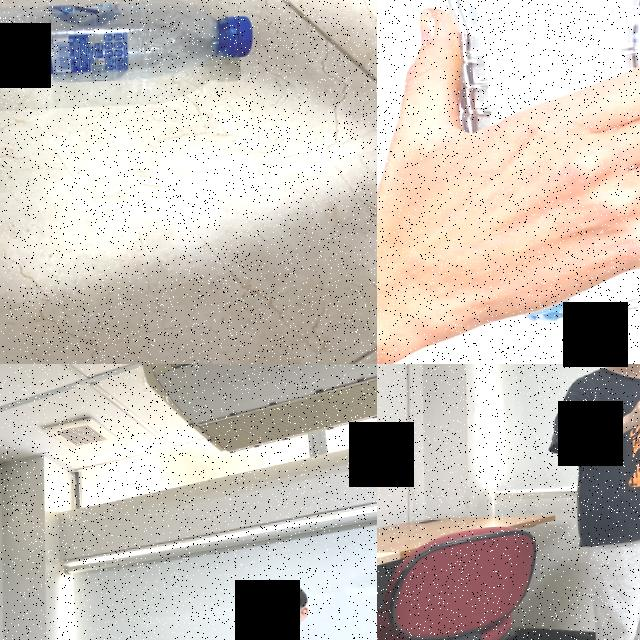bottle: (431, 0, 640, 328), (0, 0, 262, 102)
